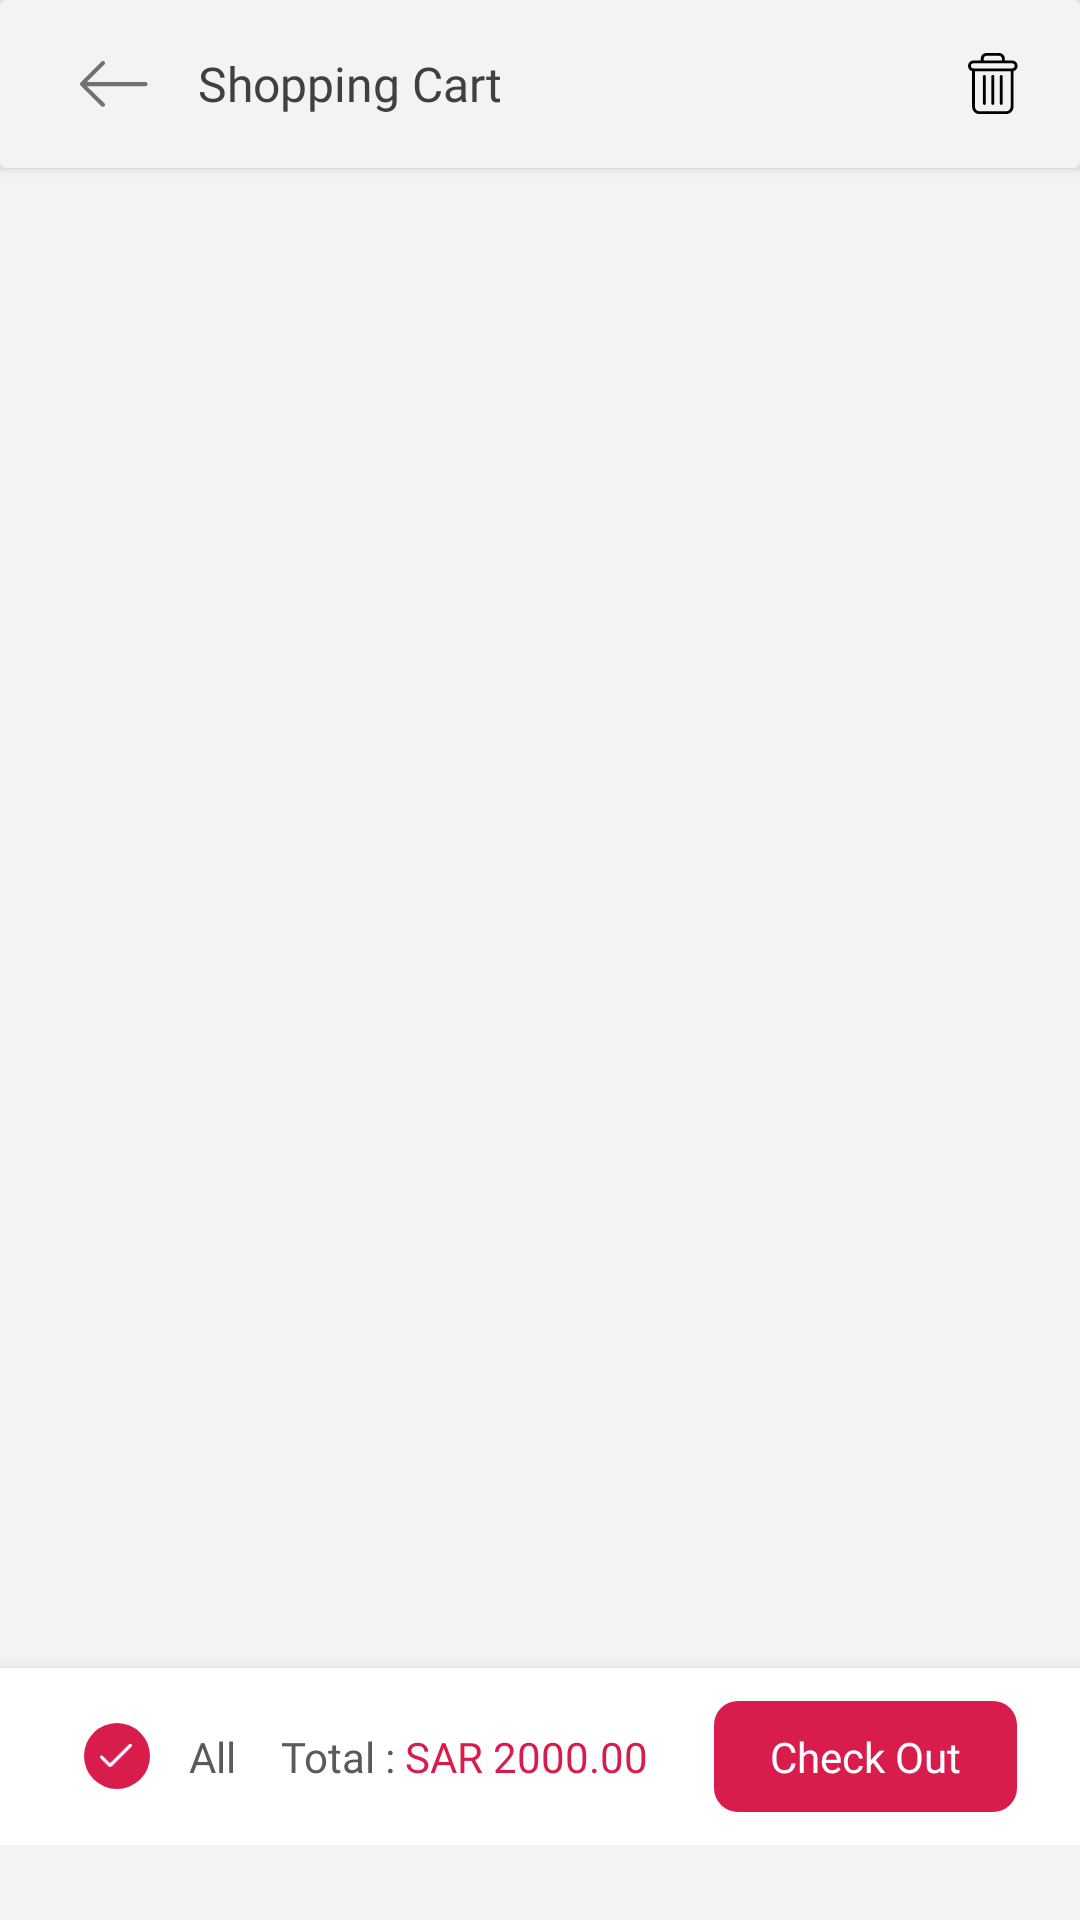

Named icons in this screenshot (1080px x 1920px) and their centers, (x=x, y=y):
back: (x=114, y=84)
delete: (x=993, y=83)
tick: (x=117, y=1756)
